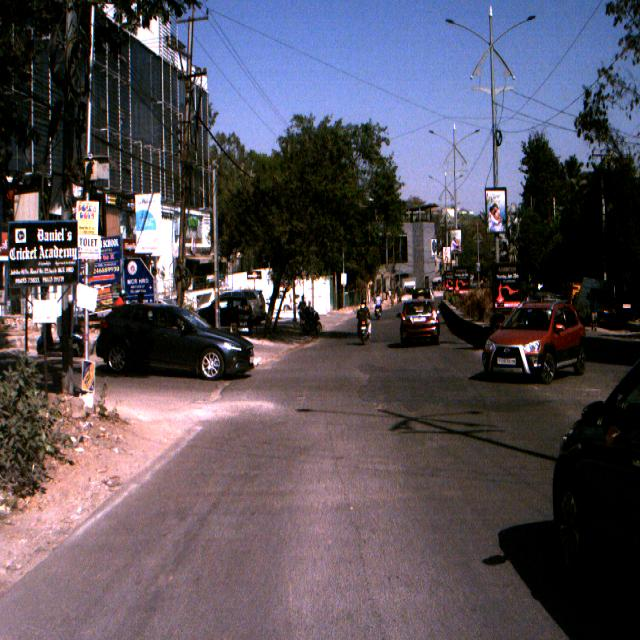car ahead at: (94, 299, 251, 386), (478, 296, 593, 381), (390, 303, 442, 347)
